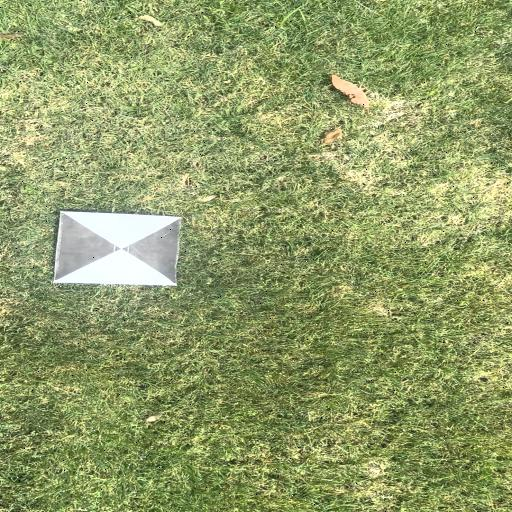target: (62, 213, 178, 284)
